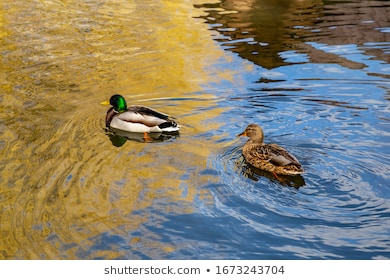duck: (85, 90, 190, 145), (228, 122, 311, 185)
